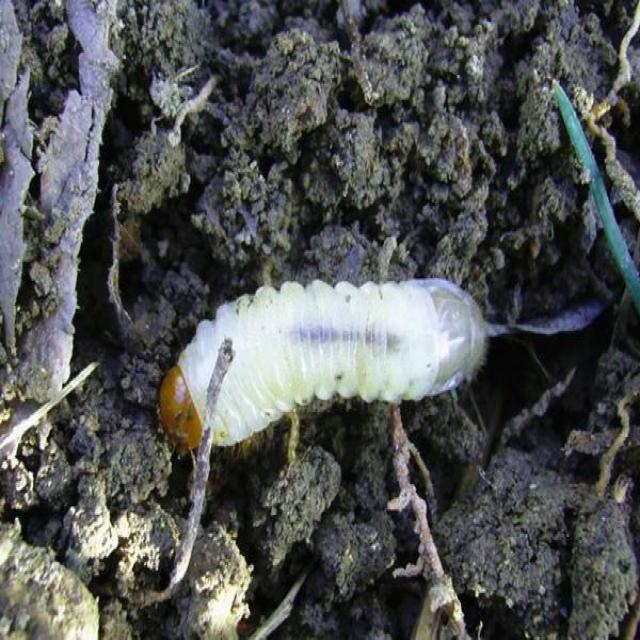grub: (158, 273, 501, 412)
